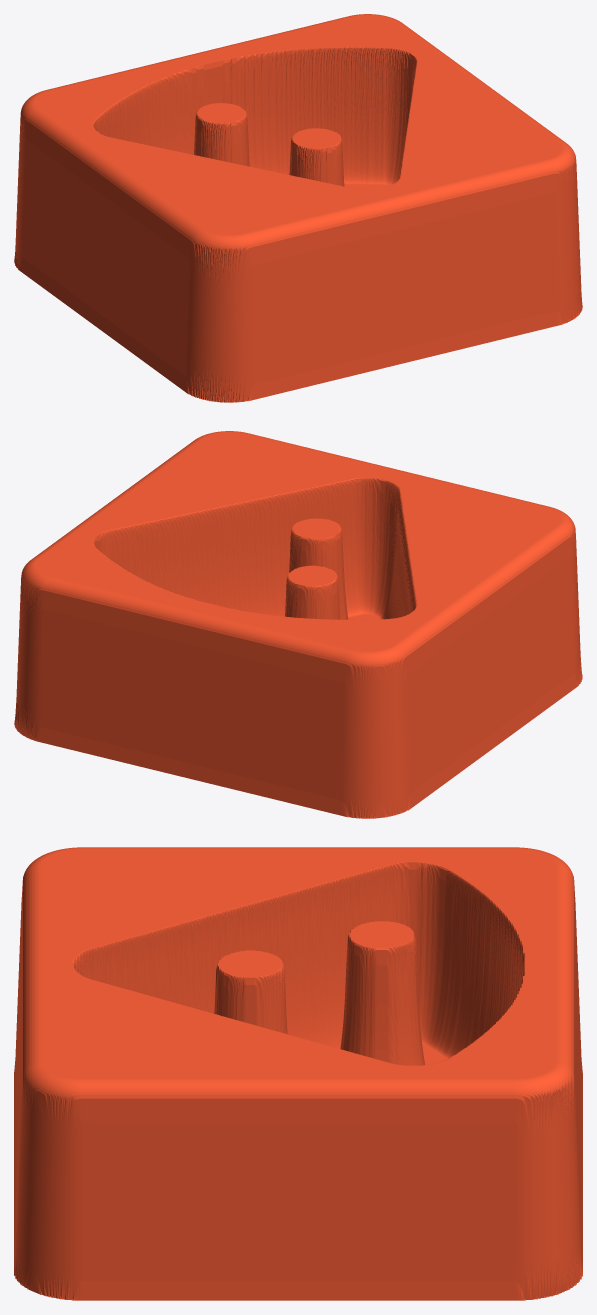
File: mold.glb
The picture shows the model from 3 angles, top to bottom: view 1: azimuth 30°, elevation 25°; view 2: azimuth 150°, elevation 25°; view 3: azimuth 270°, elevation 25°; orthographic projection. The views are drawn at different scales.
Visible parts, largest first — view 1: geometry_0; view 2: geometry_0; view 3: geometry_0.
Part boxes in pixels (x1=…): geometry_0: x1=14, y1=14, x2=582, y2=402; geometry_0: x1=14, y1=431, x2=582, y2=818; geometry_0: x1=14, y1=847, x2=582, y2=1300.
Bounding box in the file's own units: 0.0798 × 0.031 × 0.076.
